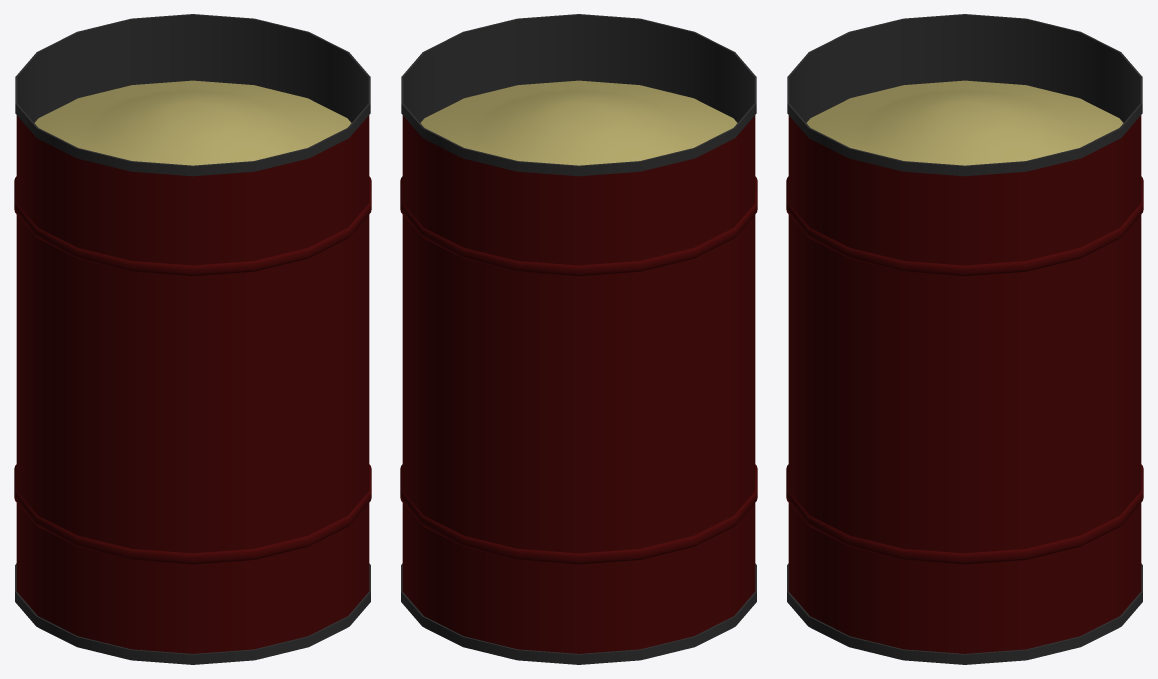
Rendered from barellSand.FBX.
3 renders of one model, left to right at view 1: azimuth 30°, elevation 25°; view 2: azimuth 150°, elevation 25°; view 3: azimuth 270°, elevation 25°, orthographic.
Parts seen in each view (by area): view 1: barrel013; view 2: barrel013; view 3: barrel013.
Part boxes in pixels (x1,y1,x2,y2): barrel013: (14,14,371,664); barrel013: (400,14,757,664); barrel013: (786,14,1143,664).
Bounding box in the file's own units: 567 × 860 × 559.
